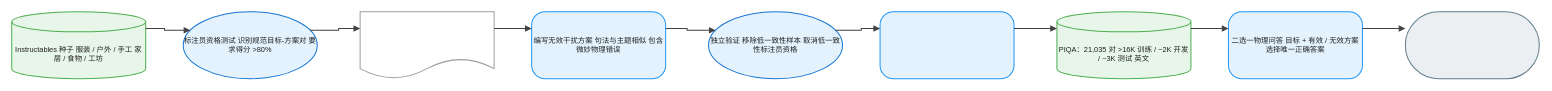
This 1552x91 diagram has some shape labels left out. Here are the shapes that lost their labels. From the top down, the centre of each, then its label:
At (426,45): "每个种子编写两例 物理目标 + 有效方案 写明前置条件 / 成功状态".
At (946,45): "AFLite 伪影削减 用 5K 样本微调 BERT-Large 线性分类器集成 删除标签可预测样本".
At (1472,45): "准确率 人类基线按多数票计算 模型与人类对比分析".
